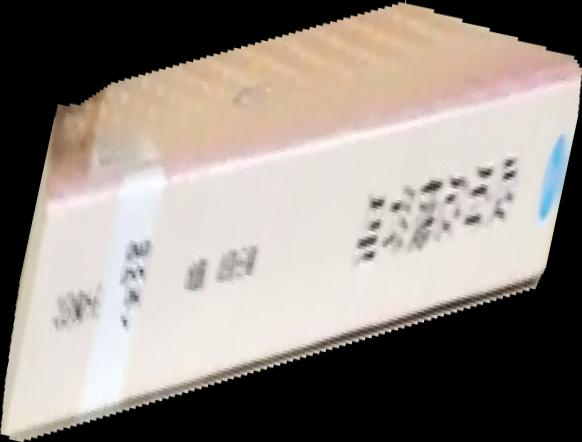flat: (1, 1, 582, 442)
